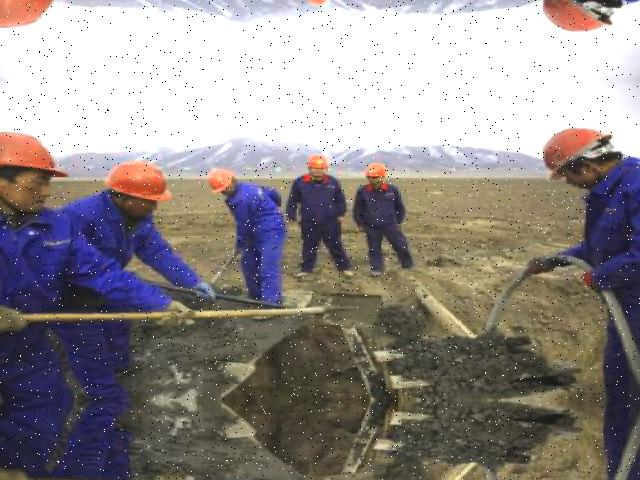Helmet: (535, 121, 619, 185), (0, 128, 69, 188), (96, 158, 178, 205), (200, 166, 237, 196), (360, 161, 388, 183), (302, 151, 327, 171)
